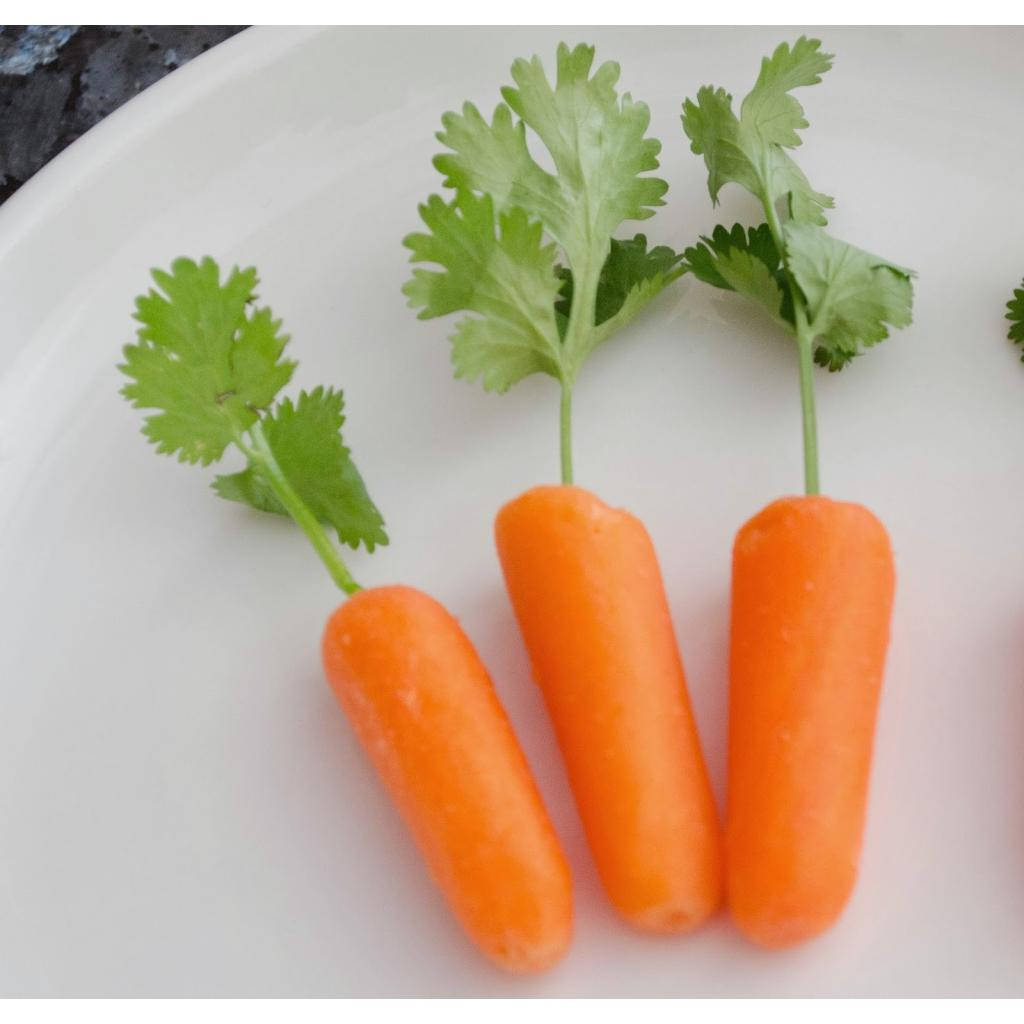carrot: (495, 485, 721, 933), (322, 586, 571, 971), (726, 495, 893, 947)
